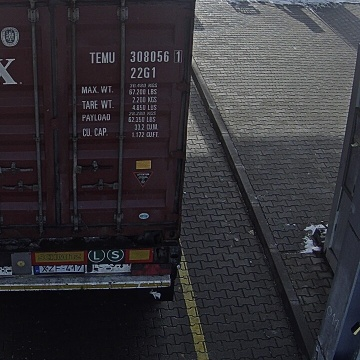serial_id: (90, 51, 180, 63)
